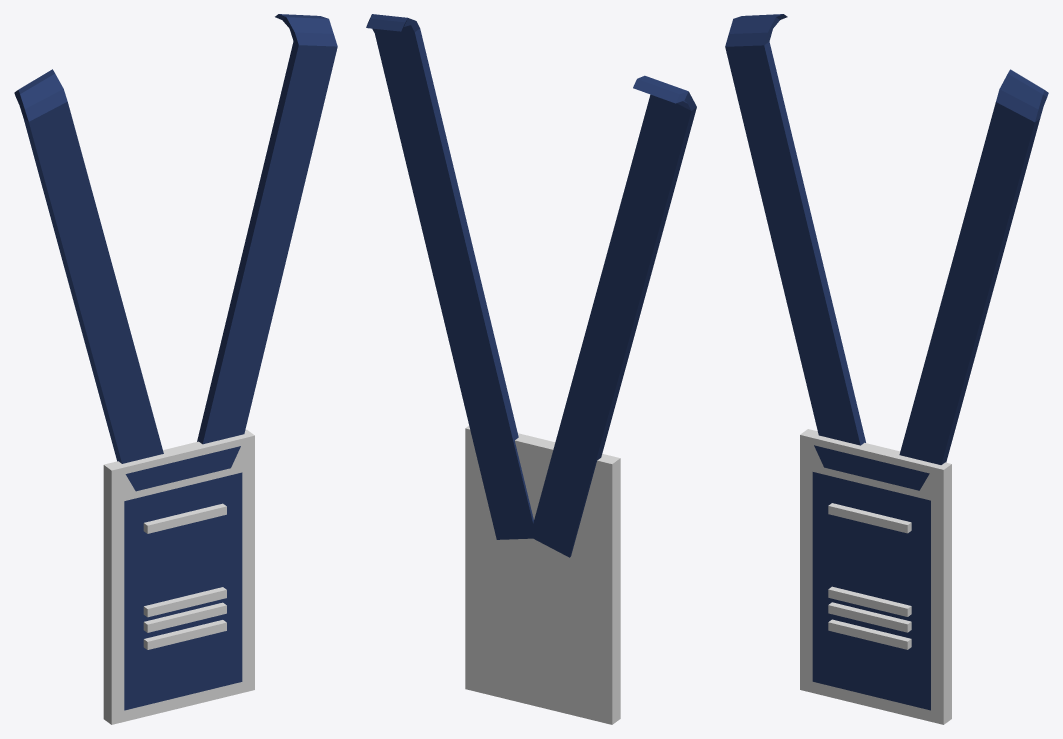
The model's file is itwork_face_model_2.gltf.
3 views of the same model, side by side, from view 1: azimuth 30°, elevation 25°; view 2: azimuth 150°, elevation 25°; view 3: azimuth 330°, elevation 25° (orthographic). The views are drawn at different scales.
Parts seen in each view (by area): view 1: Куб.001; view 2: Куб.001; view 3: Куб.001.
Part boxes in pixels (<box>): Куб.001: <box>14,14,337,724</box>; Куб.001: <box>366,14,696,724</box>; Куб.001: <box>725,14,1048,724</box>.
Size of the model in its own units: 15.34 by 30.77 by 2.53.
